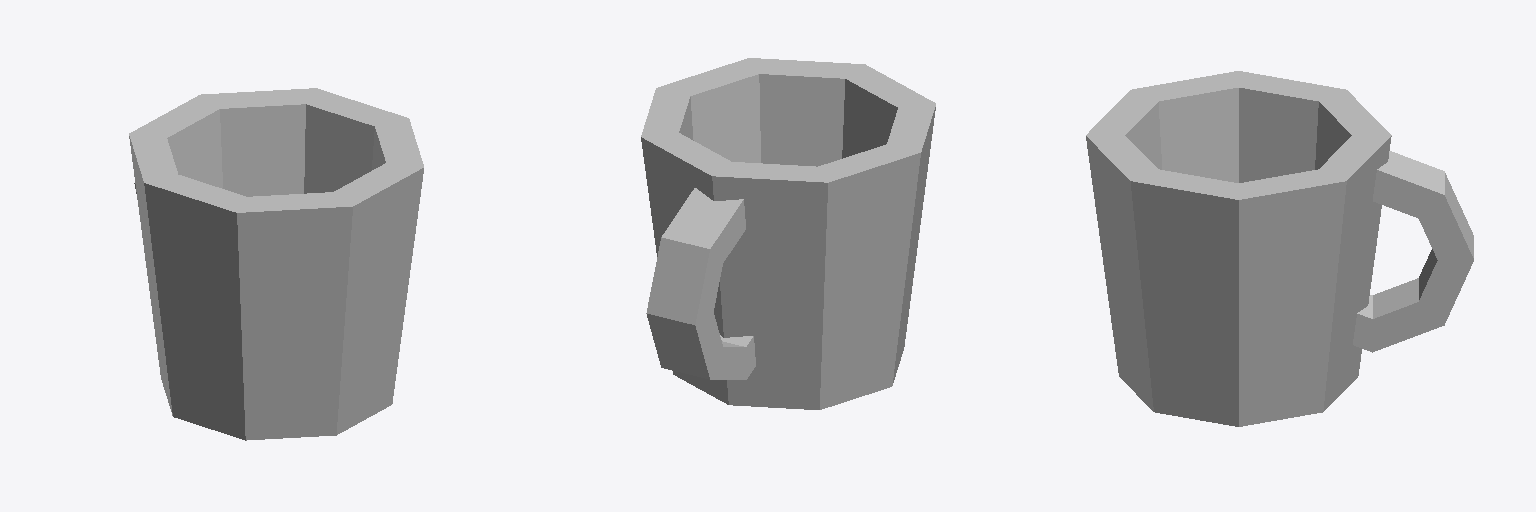
File: cup.obj
3 views of the same model, side by side, from view 1: azimuth 30°, elevation 25°; view 2: azimuth 150°, elevation 25°; view 3: azimuth 270°, elevation 25° (orthographic).
Visible parts, largest first — view 1: cup; view 2: cup; view 3: cup.
Part boxes in pixels (bbox=[...]): cup: bbox=[129, 88, 423, 440]; cup: bbox=[641, 58, 935, 409]; cup: bbox=[1086, 71, 1473, 426].
Size of the model in its own units: 0.23 by 0.2 by 0.2921.